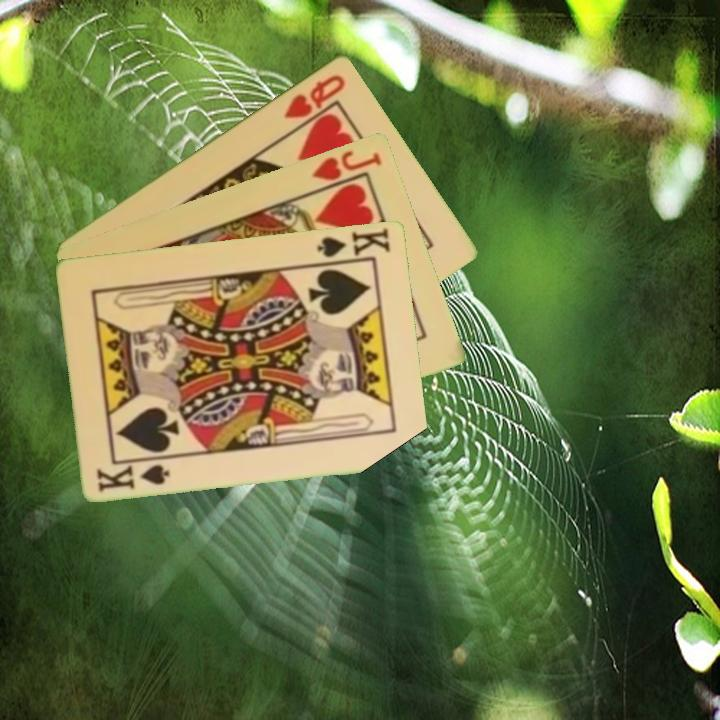Jh: (308, 146, 385, 183)
Ks: (314, 223, 394, 260), (94, 460, 173, 494)
Qh: (281, 70, 349, 121)
